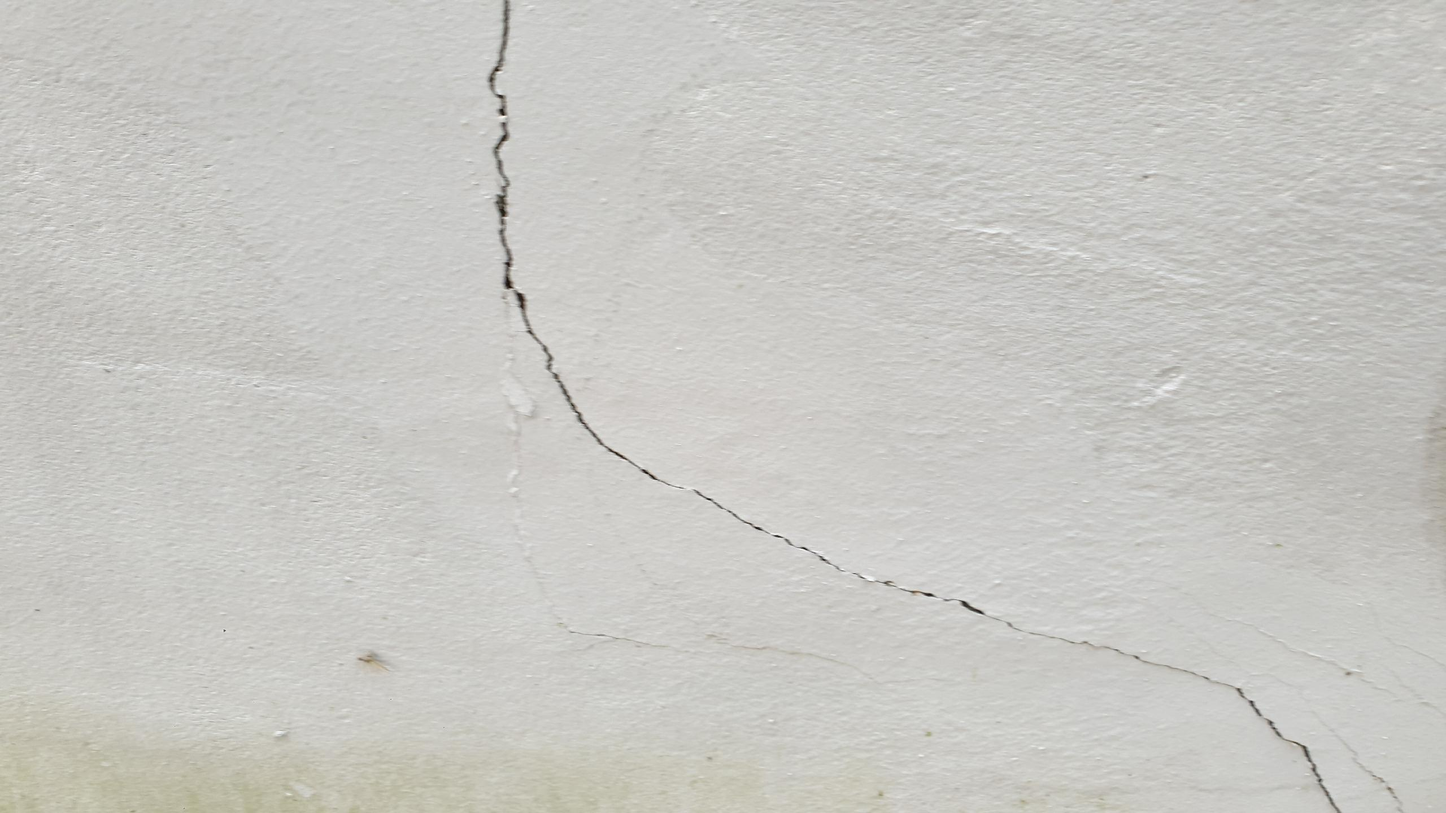crack: (486, 2, 1345, 812)
